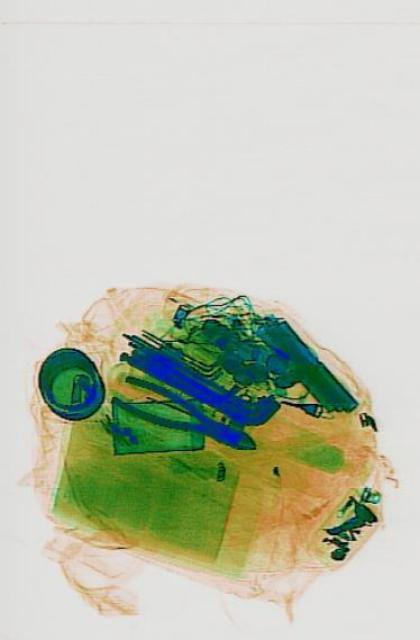Pliers: (109, 366, 257, 466)
